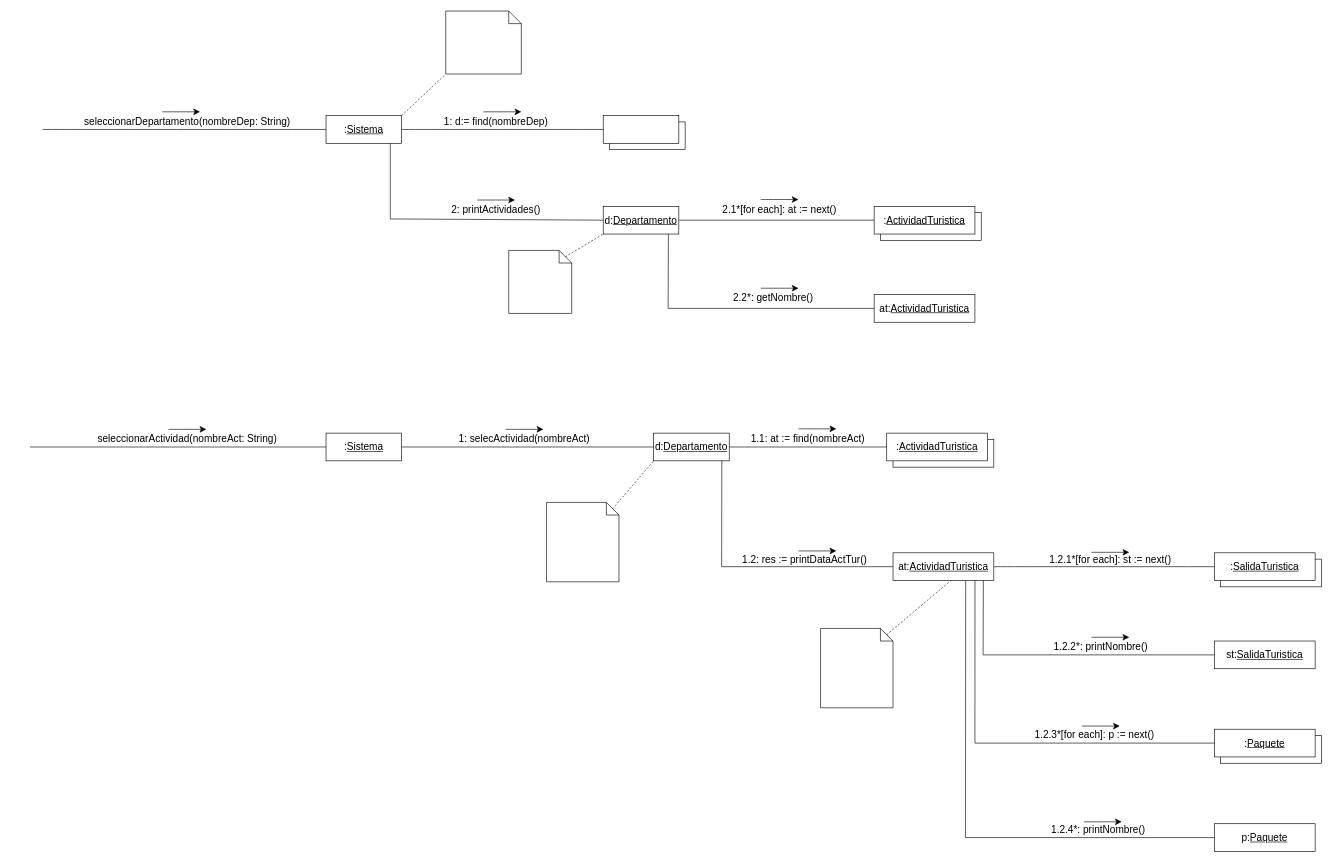
Some shapes in this 1332 by 862 pixel diagram are drawn without their labels. Each missing label, with the centre of its shape:
": Departamento" belongs at point 641,129.
"El sistema recuerda el departamento d" belongs at point 483,42.
"Imprime el conjunto de nombres" belongs at point 540,281.
"Imprime los nombres de las salidas y los paquetes asociados" belongs at point 856,668.
"Retorna res con los datos de la Actividad Turística" belongs at point 582,542.
